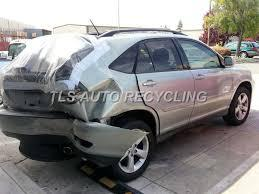quaterpanel-dent: (78, 73, 141, 122)
rear-bumper-dent: (6, 110, 104, 149)
